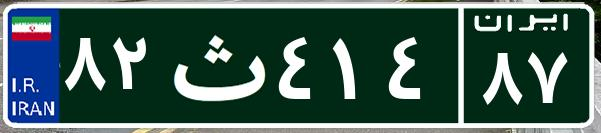1: (330, 28, 385, 110)
2: (110, 28, 158, 105)
4: (385, 28, 445, 110), (273, 28, 330, 110)
7: (525, 38, 570, 115)
8: (57, 26, 110, 107), (475, 38, 525, 113)
ث: (158, 15, 273, 115)
